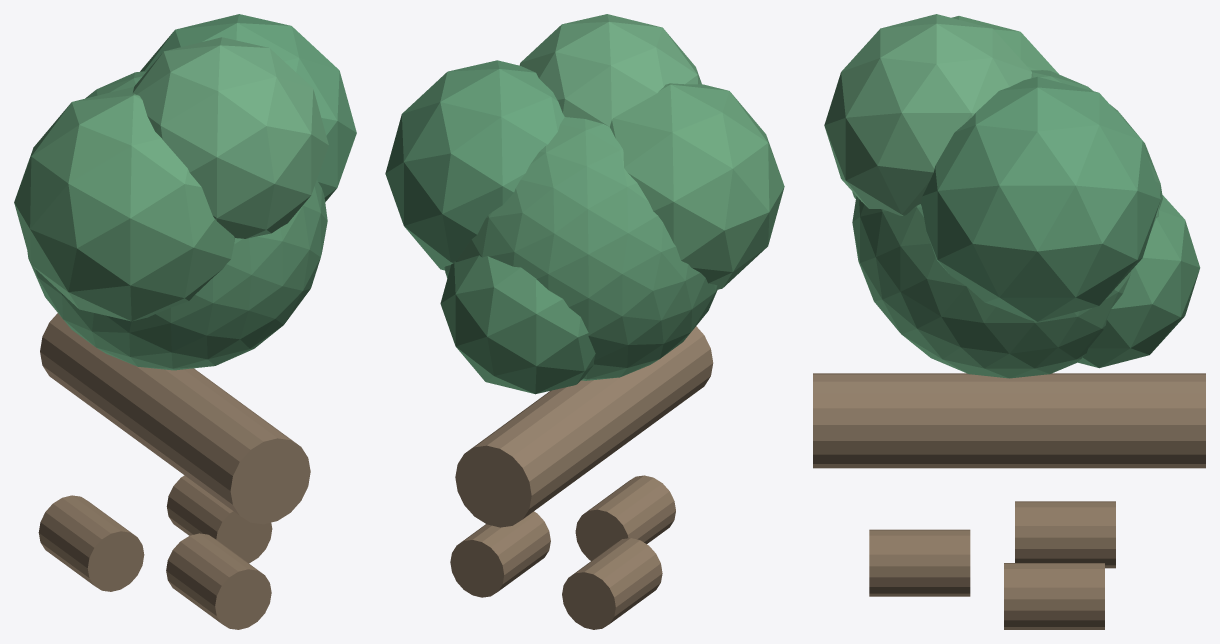
File: grass-trees.glb
The picture shows the model from 3 angles, left to right: view 1: azimuth 30°, elevation 25°; view 2: azimuth 150°, elevation 25°; view 3: azimuth 270°, elevation 25°; orthographic projection. The views are drawn at different scales.
Parts seen in each view (by area): view 1: world; view 2: world; view 3: world.
Part boxes in pixels (x1,y1,x2,y2): world: (14, 14, 356, 629); world: (385, 14, 784, 629); world: (813, 14, 1205, 629).
Bounding box in the file's own units: 0.74 × 1.13 × 0.7.
